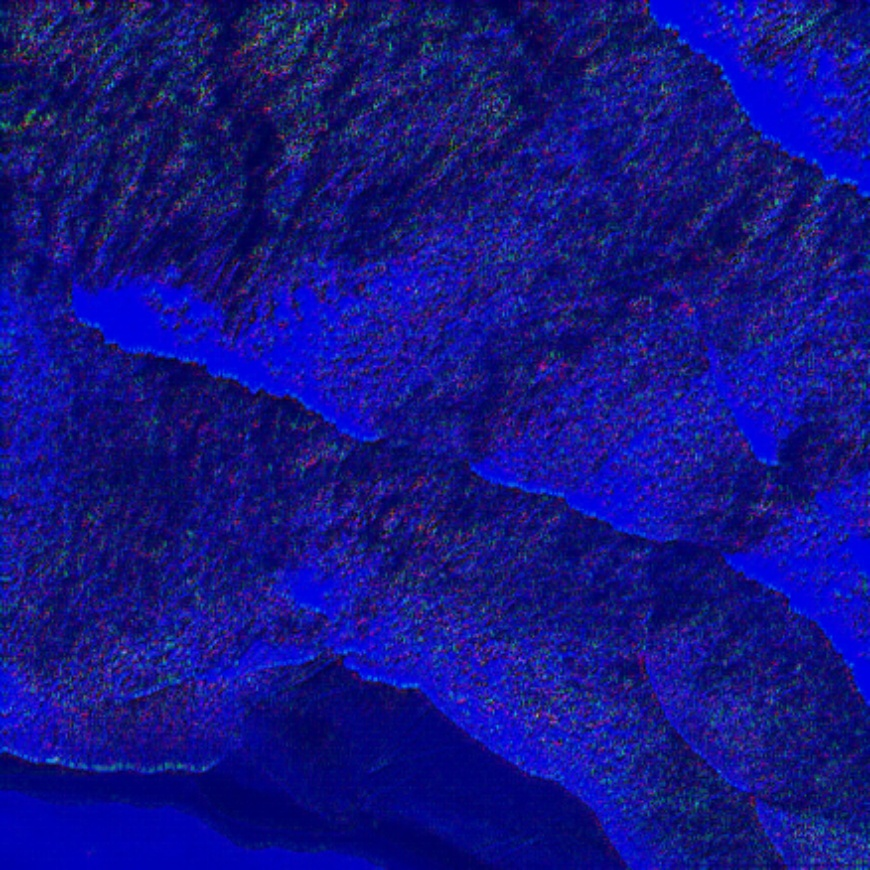rip_current: (223, 209, 655, 539)
